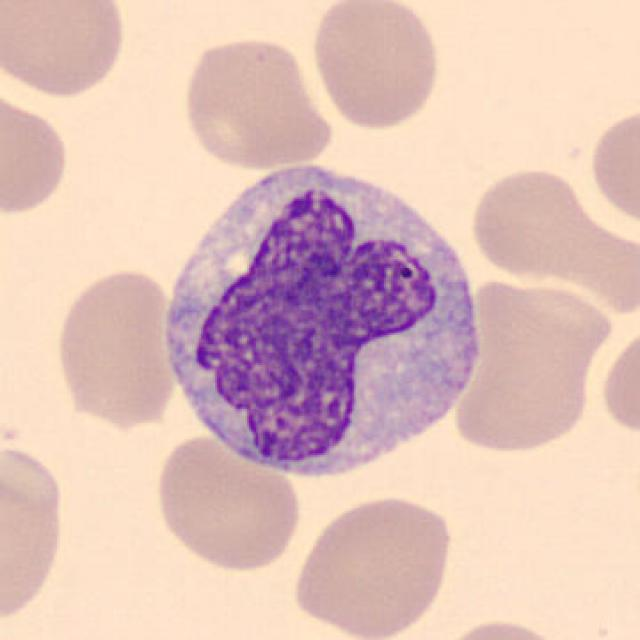Monocyte: (150, 148, 494, 492)
RBC: (444, 273, 604, 460), (288, 490, 455, 640), (149, 430, 306, 575), (178, 33, 336, 173), (49, 264, 180, 432), (308, 0, 444, 132), (466, 164, 588, 280), (0, 437, 69, 629), (0, 0, 131, 100), (0, 86, 73, 220), (585, 102, 638, 229), (598, 321, 638, 442), (432, 613, 576, 640)
